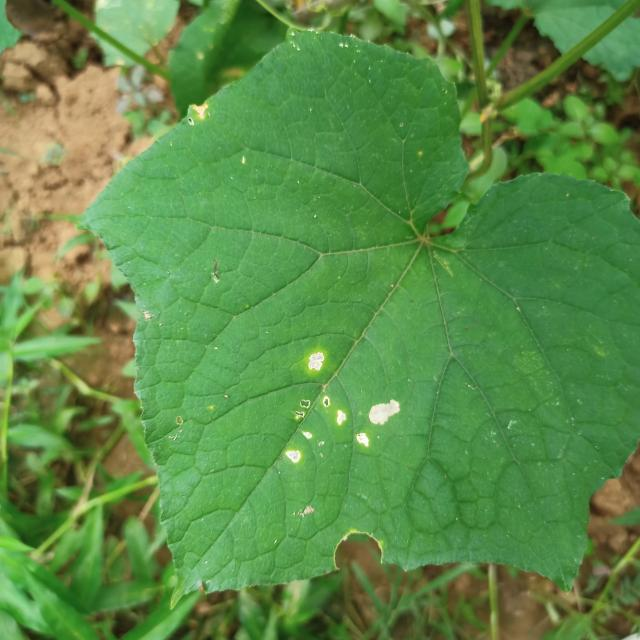disease_cucumber: (282, 352, 401, 462)
